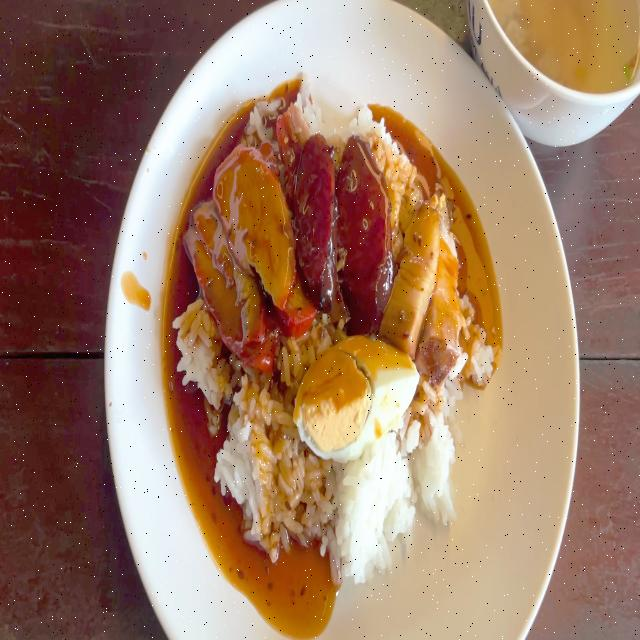boiled_egg: (296, 337, 418, 464)
chainese_sausage: (294, 132, 392, 324), (346, 137, 387, 321), (294, 132, 336, 299)
crispy_pork: (397, 184, 462, 374), (390, 194, 436, 345), (428, 193, 466, 358)
red_pork: (188, 146, 306, 367), (221, 145, 311, 335), (188, 197, 273, 373), (216, 150, 290, 296), (201, 202, 267, 336)
red_pork_and_crispy_pork: (173, 82, 499, 570)
rice: (221, 390, 307, 540), (337, 445, 428, 571), (171, 303, 220, 405), (419, 412, 459, 520), (300, 82, 380, 130), (476, 329, 486, 384)
